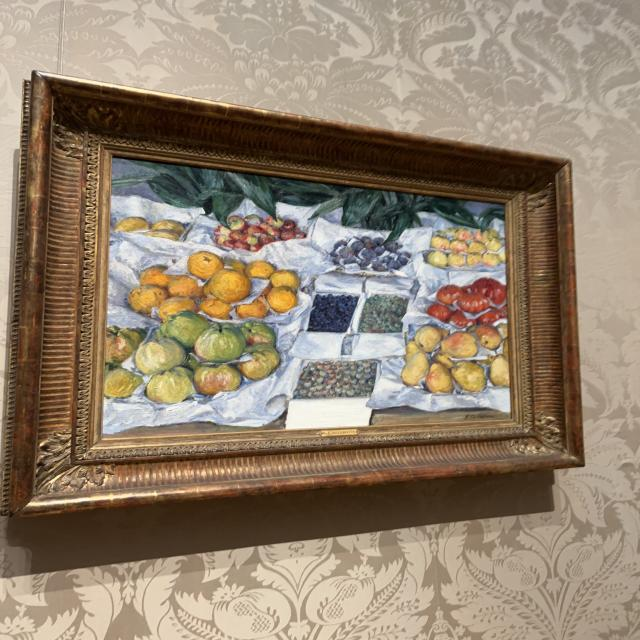fruits: (103, 157, 511, 439)
